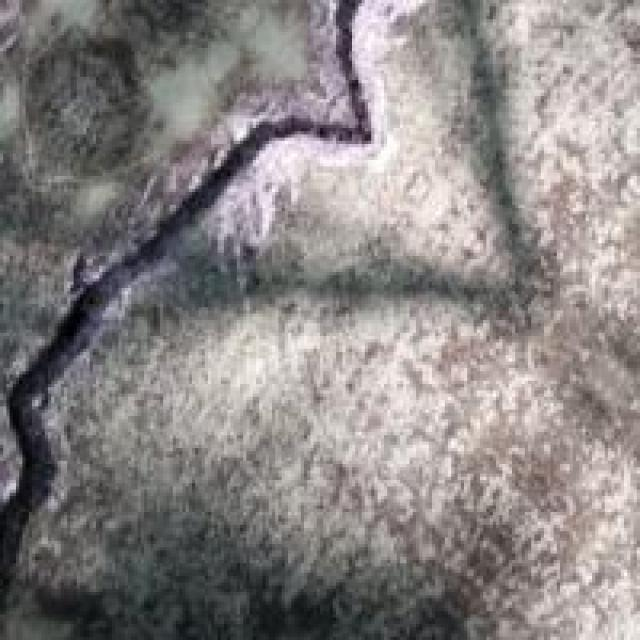crack: (0, 0, 358, 637)
